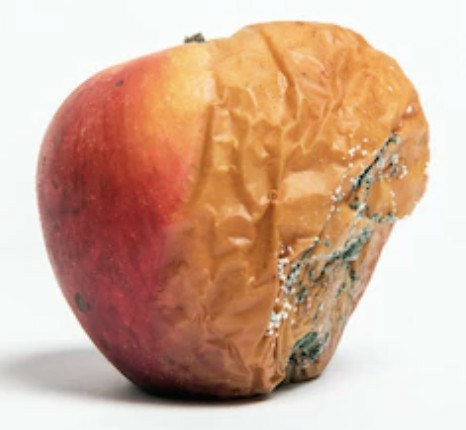rotten_apple: (37, 23, 431, 405)
